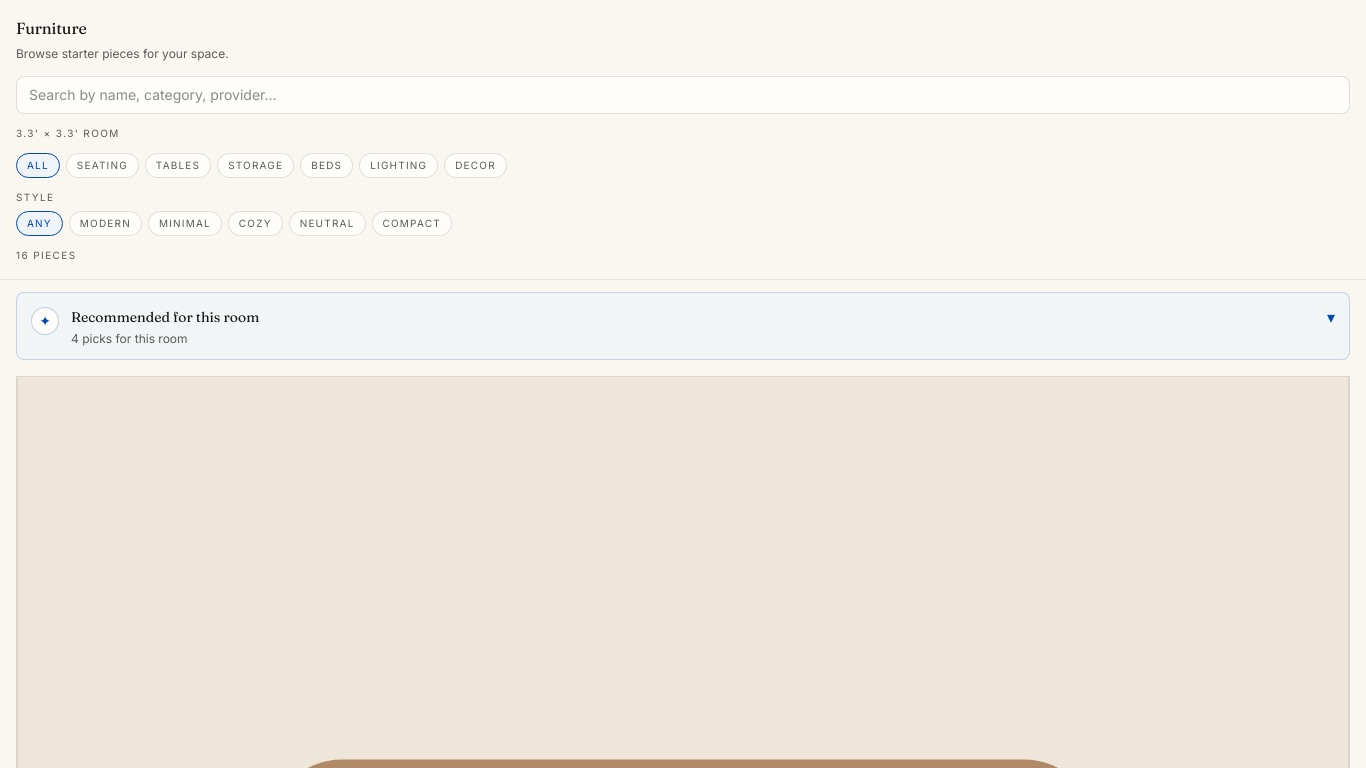
Test: FurnitureCatalogPanel › Recommended for this room section › shows an empty recommended state for categories with no fits
Click the button "Tables": (178, 165) [145,152,211,178]
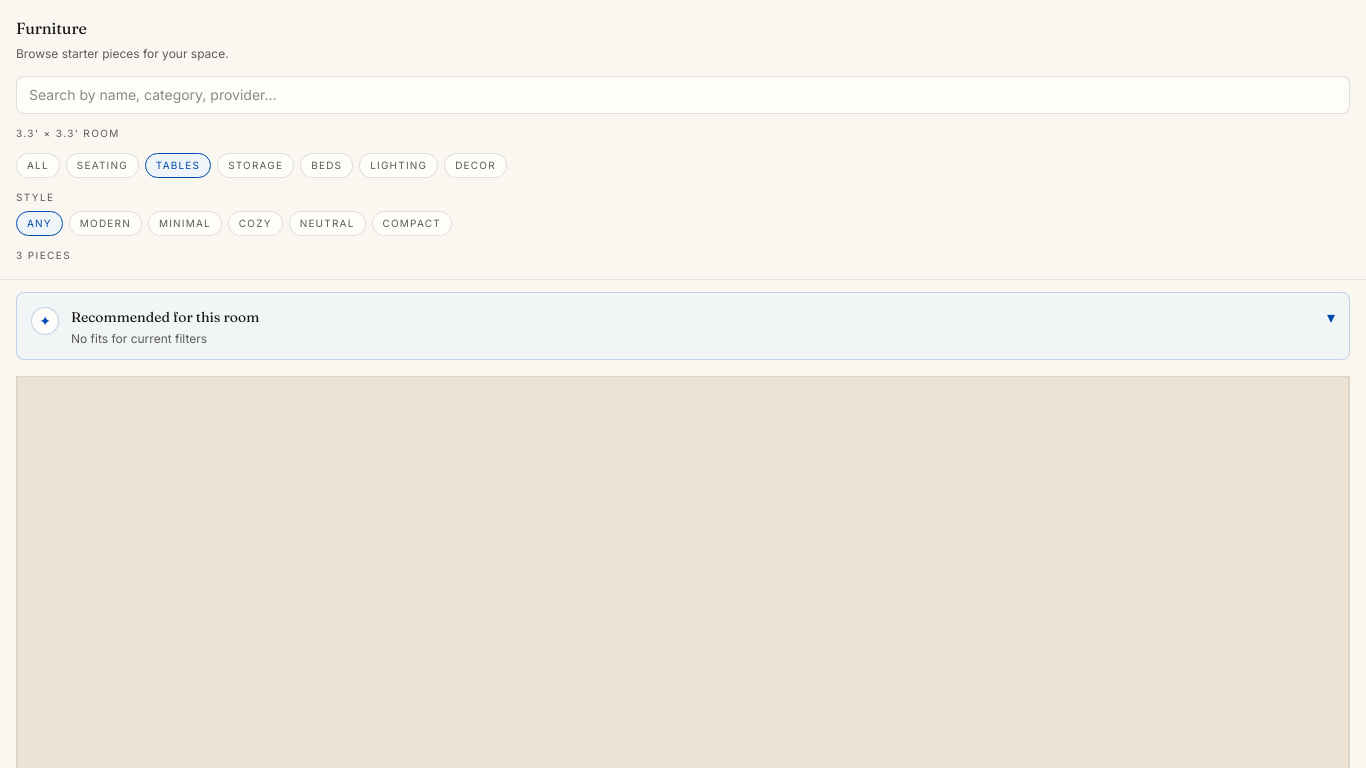
Click the button with test id "recommended-collapsible-trigger": (165, 316) [16,292,1350,360]
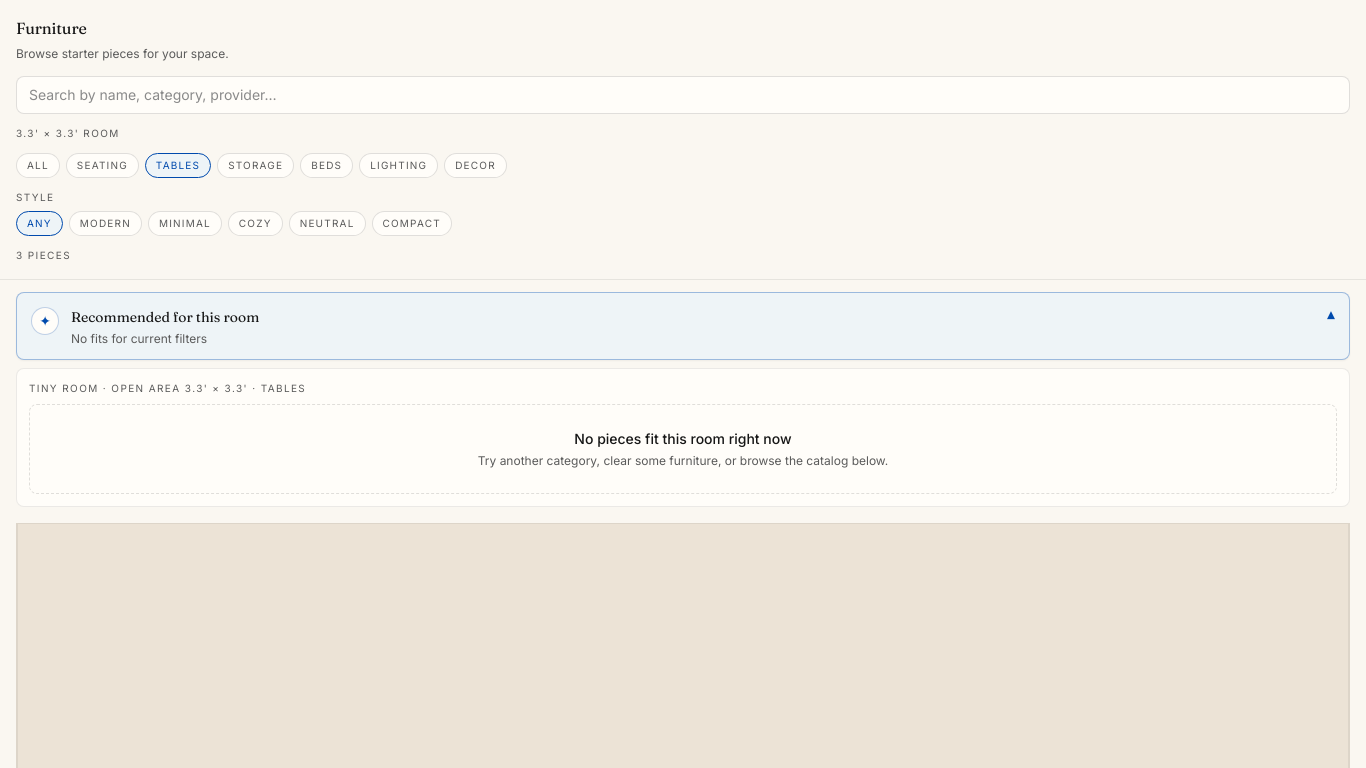
Result: the element with test id "recommended-empty-state" shows "No pieces fit" at [574,430,792,446]
